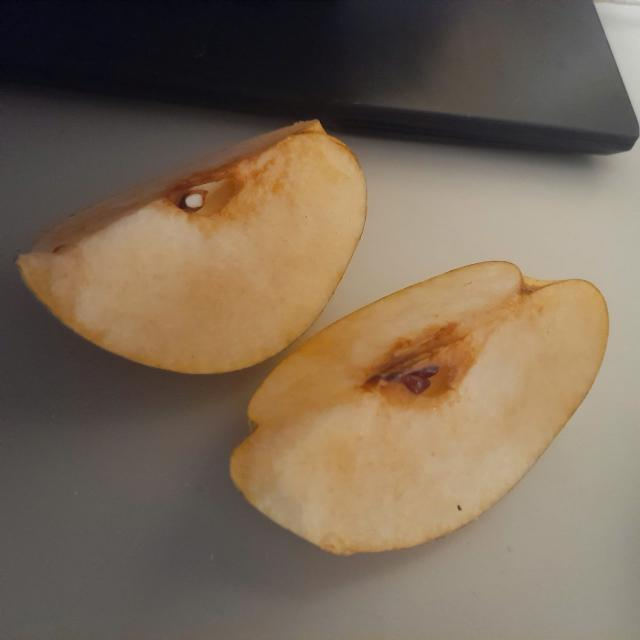Le: (215, 253, 615, 562), (14, 114, 368, 382)
